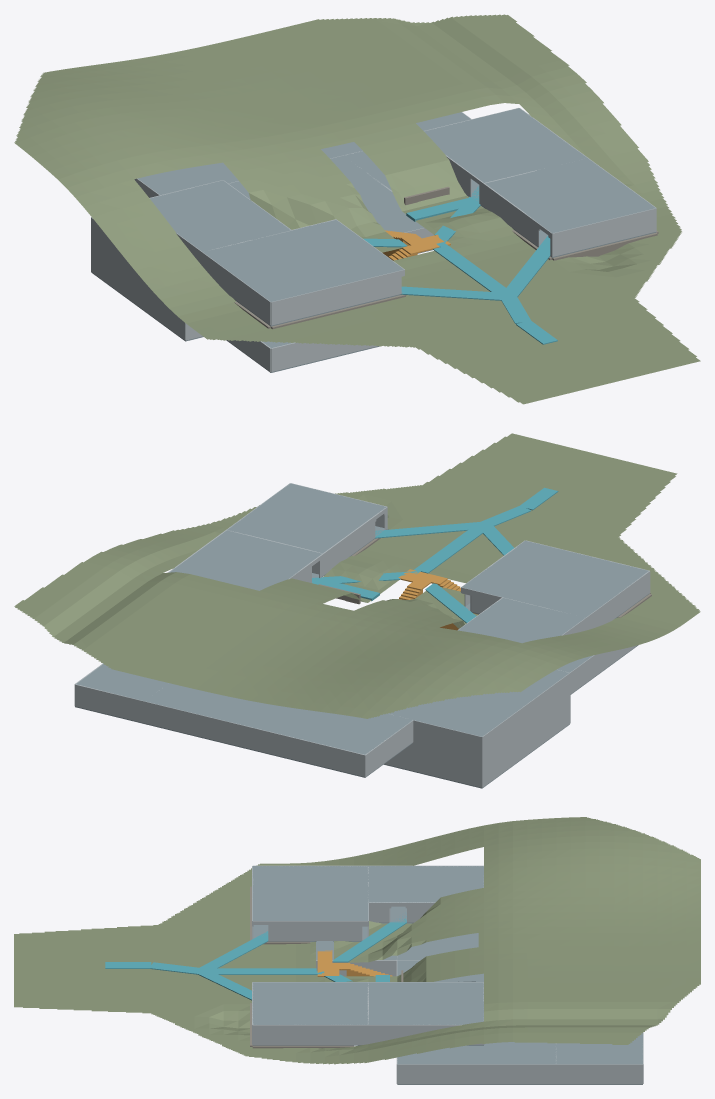
Rendered from retained-cuts.glb.
The picture shows the model from 3 angles, top to bottom: view 1: azimuth 30°, elevation 25°; view 2: azimuth 150°, elevation 25°; view 3: azimuth 270°, elevation 25°; orthographic projection. The views are drawn at different scales.
Visible parts, largest first — view 1: Saved editor circulation terrain WLD-05, Ceiling cap shack, Ceiling cap assay, Ceiling cap wash, Ceiling cap stores, Flat route shell Wall shack S, Wall lower W, Wall assay S, Ceiling cap cross, Wall vent S, Wall shack W, Flat route shell Wall assay W (+8 smaller); view 2: Saved editor circulation terrain WLD-05, Ceiling cap shack, Ceiling cap cross, Ceiling cap assay, Ceiling cap wash, Wall cross N, Ceiling cap ore-west, Ceiling cap stores, Wall lower W, Wall lower N, Wall ore-west W, Ceiling cap lift (+10 smaller); view 3: Saved editor circulation terrain WLD-05, Ceiling cap shack, Ceiling cap assay, Ceiling cap wash, Ceiling cap stores, Wall ore-east E, Ceiling cap ore-east, Wall assay E, Flat route shell Wall shack E, Ceiling cap lift, Wall lift E, Ceiling cap ore-west (+7 smaller).
Boxes of the visible parts, x1,y1,x2,y2 form: Saved editor circulation terrain WLD-05: [14, 14, 700, 404]; Ceiling cap shack: [203, 220, 403, 301]; Ceiling cap assay: [485, 158, 655, 233]; Ceiling cap wash: [424, 108, 586, 182]; Ceiling cap stores: [150, 180, 290, 251]; Flat route shell Wall shack S: [271, 269, 404, 325]; Wall lower W: [91, 241, 185, 340]; Wall assay S: [552, 208, 656, 256]; Ceiling cap cross: [137, 142, 362, 195]; Wall vent S: [271, 342, 376, 371]; Wall shack W: [202, 252, 270, 325]; Flat route shell Wall assay W: [483, 183, 540, 246]; Saved editor circulation terrain WLD-05: [14, 433, 700, 718]; Ceiling cap shack: [462, 540, 648, 617]; Ceiling cap cross: [144, 683, 412, 754]; Ceiling cap assay: [227, 483, 386, 553]; Ceiling cap wash: [169, 530, 322, 590]; Wall cross N: [144, 701, 365, 776]; Ceiling cap ore-west: [388, 669, 569, 736]; Ceiling cap stores: [458, 598, 585, 643]; Wall lower W: [482, 694, 570, 787]; Wall lower N: [385, 742, 482, 787]; Wall ore-west W: [482, 673, 570, 758]; Ceiling cap lift: [76, 663, 168, 700]; Saved editor circulation terrain WLD-05: [14, 817, 700, 1064]; Ceiling cap shack: [252, 866, 368, 920]; Ceiling cap assay: [252, 982, 368, 1024]; Ceiling cap wash: [368, 982, 483, 1024]; Ceiling cap stores: [368, 866, 483, 902]; Wall ore-east E: [397, 1064, 556, 1084]; Ceiling cap ore-east: [397, 1042, 556, 1064]; Wall assay E: [252, 1024, 368, 1044]; Flat route shell Wall shack E: [268, 921, 368, 940]; Ceiling cap lift: [556, 1033, 642, 1064]; Wall lift E: [556, 1064, 642, 1084]; Ceiling cap ore-west: [397, 923, 478, 959].
Bounding box in the file's own units: 70 × 17.77 × 95.
